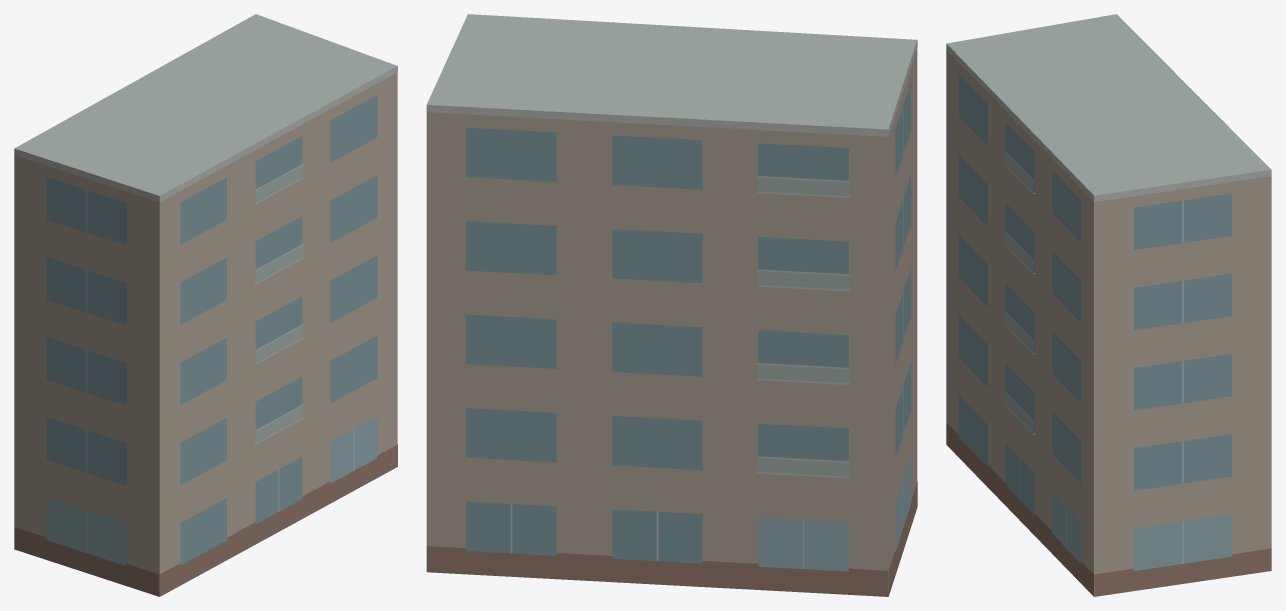
The model's file is residential-d5a24f6e-69e9-44ab-816d-8dd9a69a21b8.glb.
3 views of the same model, side by side, from view 1: azimuth 30°, elevation 25°; view 2: azimuth 150°, elevation 25°; view 3: azimuth 270°, elevation 25° (orthographic). The views are drawn at different scales.
Parts seen in each view (by area): view 1: residential-d5a24f6e-69e9-44ab-816d-8dd9a69a21b8.tmp; view 2: residential-d5a24f6e-69e9-44ab-816d-8dd9a69a21b8.tmp; view 3: residential-d5a24f6e-69e9-44ab-816d-8dd9a69a21b8.tmp.
Boxes of the visible parts, x1=… form: residential-d5a24f6e-69e9-44ab-816d-8dd9a69a21b8.tmp: x1=14, y1=14, x2=397, y2=596; residential-d5a24f6e-69e9-44ab-816d-8dd9a69a21b8.tmp: x1=426, y1=14, x2=917, y2=596; residential-d5a24f6e-69e9-44ab-816d-8dd9a69a21b8.tmp: x1=946, y1=14, x2=1271, y2=596.
Bounding box in the file's own units: 14.82 × 15.25 × 11.21.
